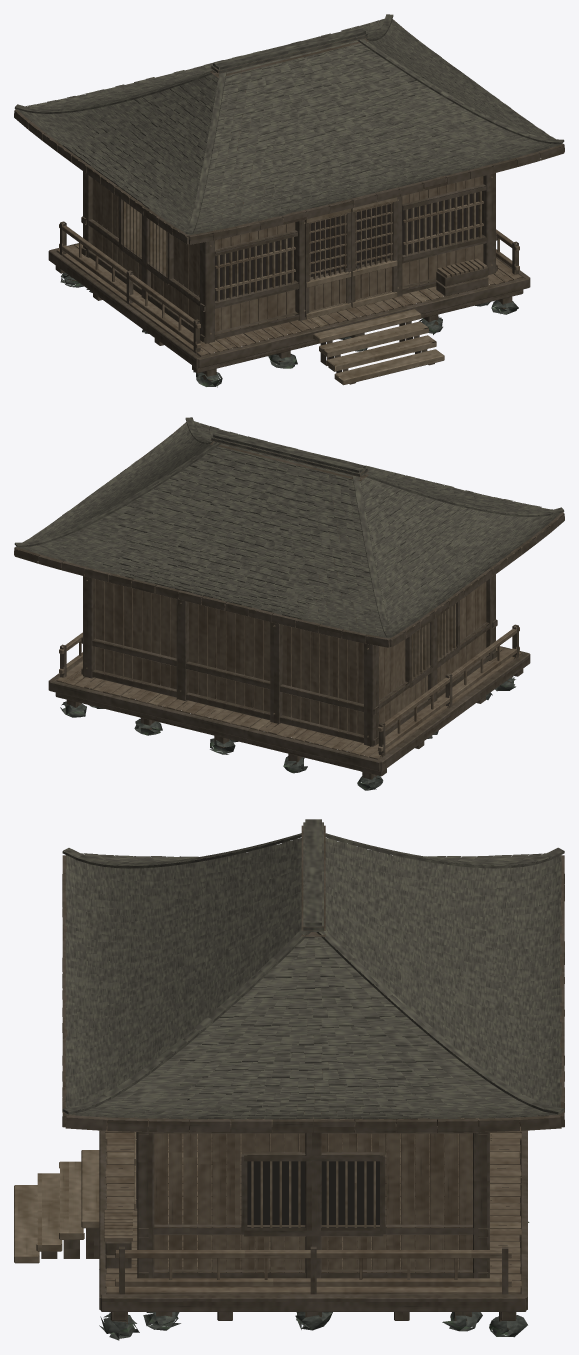
Rendered from temple.glb.
3 views of the same model, one above another, from view 1: azimuth 30°, elevation 25°; view 2: azimuth 150°, elevation 25°; view 3: azimuth 270°, elevation 25° (orthographic). The views are drawn at different scales.
Visible parts, largest first — view 1: 01_Roof | Cedar shingles | soft ash and lichen, 03_Timber_wall_frame | Cedar | protected structural heartwoo, 03_Timber_wall_frame | Cedar | weathered silver brown, 04_Veranda_and_steps | Cedar | protected structural heartwoo, 06_Front_details | Cedar | worn exposed edges, 04_Veranda_and_steps | Cedar | weathered silver brown, 06_Front_details | Cedar | weathered silver brown, 04_Veranda_and_steps | Cedar | worn exposed edges, 02_Rafters_and_joinery | Cedar | protected structural heartw, 06_Front_details | Cedar | protected structural heartwood, 06_Front_details | Unlit timber recess, 03_Timber_wall_frame | Unlit timber recess (+2 smaller); view 2: 01_Roof | Cedar shingles | soft ash and lichen, 03_Timber_wall_frame | Cedar | weathered silver brown, 03_Timber_wall_frame | Cedar | protected structural heartwoo, 04_Veranda_and_steps | Cedar | protected structural heartwoo, 04_Veranda_and_steps | Cedar | weathered silver brown, 02_Rafters_and_joinery | Cedar | protected structural heartw, 05_Foundation | Footing stones | river granite, 06_Front_details | Cedar | worn exposed edges, 01_Roof | Cedar | protected structural heartwood; view 3: 01_Roof | Cedar shingles | soft ash and lichen, 03_Timber_wall_frame | Cedar | weathered silver brown, 04_Veranda_and_steps | Cedar | weathered silver brown, 03_Timber_wall_frame | Cedar | protected structural heartwoo, 04_Veranda_and_steps | Cedar | protected structural heartwoo, 02_Rafters_and_joinery | Cedar | protected structural heartw, 04_Veranda_and_steps | Cedar | worn exposed edges, 06_Front_details | Unlit timber recess, 05_Foundation | Footing stones | river granite, 06_Front_details | Cedar | worn exposed edges, 06_Front_details | Cedar | weathered silver brown, 01_Roof | Cedar | protected structural heartwood (+1 smaller).
Boxes of the visible parts, bbox=[...] form: 01_Roof | Cedar shingles | soft ash and lichen: bbox=[14, 14, 564, 235]; 03_Timber_wall_frame | Cedar | protected structural heartwoo: bbox=[81, 171, 497, 345]; 03_Timber_wall_frame | Cedar | weathered silver brown: bbox=[79, 176, 499, 334]; 04_Veranda_and_steps | Cedar | protected structural heartwoo: bbox=[48, 221, 530, 384]; 06_Front_details | Cedar | worn exposed edges: bbox=[123, 191, 481, 318]; 04_Veranda_and_steps | Cedar | weathered silver brown: bbox=[56, 223, 522, 356]; 06_Front_details | Cedar | weathered silver brown: bbox=[215, 200, 487, 311]; 04_Veranda_and_steps | Cedar | worn exposed edges: bbox=[74, 244, 444, 385]; 02_Rafters_and_joinery | Cedar | protected structural heartw: bbox=[14, 19, 564, 244]; 06_Front_details | Cedar | protected structural heartwood: bbox=[215, 184, 488, 317]; 06_Front_details | Unlit timber recess: bbox=[215, 187, 482, 300]; 03_Timber_wall_frame | Unlit timber recess: bbox=[310, 204, 389, 276]; 01_Roof | Cedar shingles | soft ash and lichen: bbox=[14, 417, 564, 638]; 03_Timber_wall_frame | Cedar | weathered silver brown: bbox=[79, 579, 499, 737]; 03_Timber_wall_frame | Cedar | protected structural heartwoo: bbox=[81, 574, 497, 749]; 04_Veranda_and_steps | Cedar | protected structural heartwoo: bbox=[48, 624, 530, 783]; 04_Veranda_and_steps | Cedar | weathered silver brown: bbox=[56, 626, 522, 759]; 02_Rafters_and_joinery | Cedar | protected structural heartw: bbox=[14, 422, 564, 647]; 05_Foundation | Footing stones | river granite: bbox=[60, 676, 515, 790]; 06_Front_details | Cedar | worn exposed edges: bbox=[411, 604, 455, 680]; 01_Roof | Cedar | protected structural heartwood: bbox=[27, 432, 407, 640]; 01_Roof | Cedar shingles | soft ash and lichen: bbox=[62, 819, 564, 1119]; 03_Timber_wall_frame | Cedar | weathered silver brown: bbox=[154, 1126, 472, 1279]; 04_Veranda_and_steps | Cedar | weathered silver brown: bbox=[105, 1105, 521, 1294]; 03_Timber_wall_frame | Cedar | protected structural heartwoo: bbox=[137, 1121, 489, 1278]; 04_Veranda_and_steps | Cedar | protected structural heartwoo: bbox=[41, 1130, 527, 1329]; 02_Rafters_and_joinery | Cedar | protected structural heartw: bbox=[62, 855, 564, 1132]; 04_Veranda_and_steps | Cedar | worn exposed edges: bbox=[14, 1150, 520, 1263]; 06_Front_details | Unlit timber recess: bbox=[247, 1161, 379, 1227]; 05_Foundation | Footing stones | river granite: bbox=[99, 1221, 529, 1340]; 06_Front_details | Cedar | worn exposed edges: bbox=[134, 1132, 375, 1227]; 06_Front_details | Cedar | weathered silver brown: bbox=[104, 1210, 132, 1241]; 01_Roof | Cedar | protected structural heartwood: bbox=[66, 825, 561, 1121].
Bounding box in the file's own units: 9.22 × 5.92 × 8.11.
Materials: 7 (5 with a texture image).
